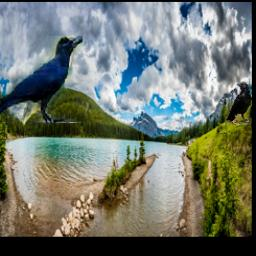Crow: (0, 37, 83, 124), (226, 83, 251, 126)
